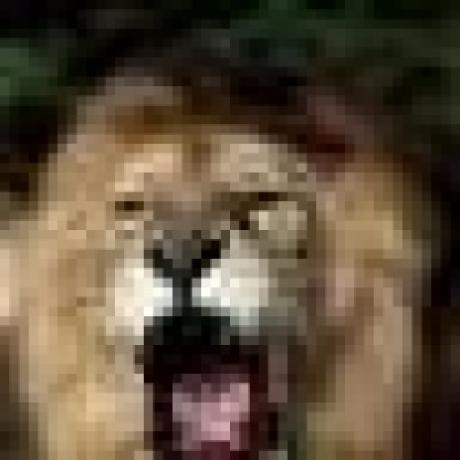Lion: (0, 48, 441, 460)
